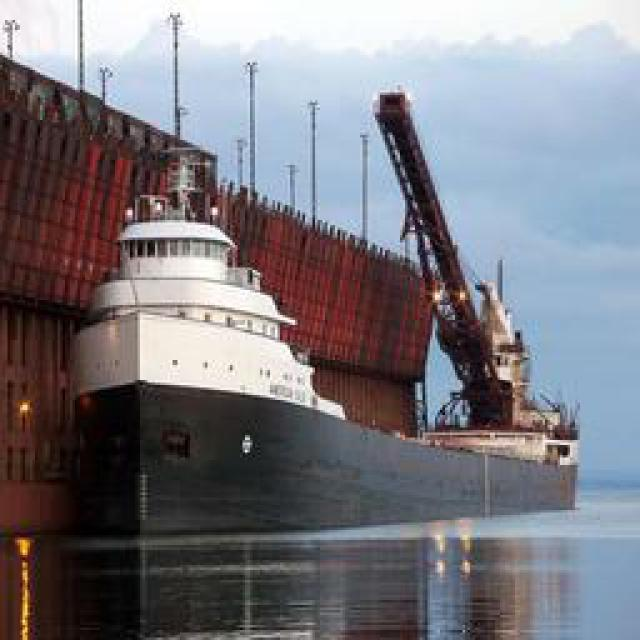Ship: (28, 75, 586, 553)
